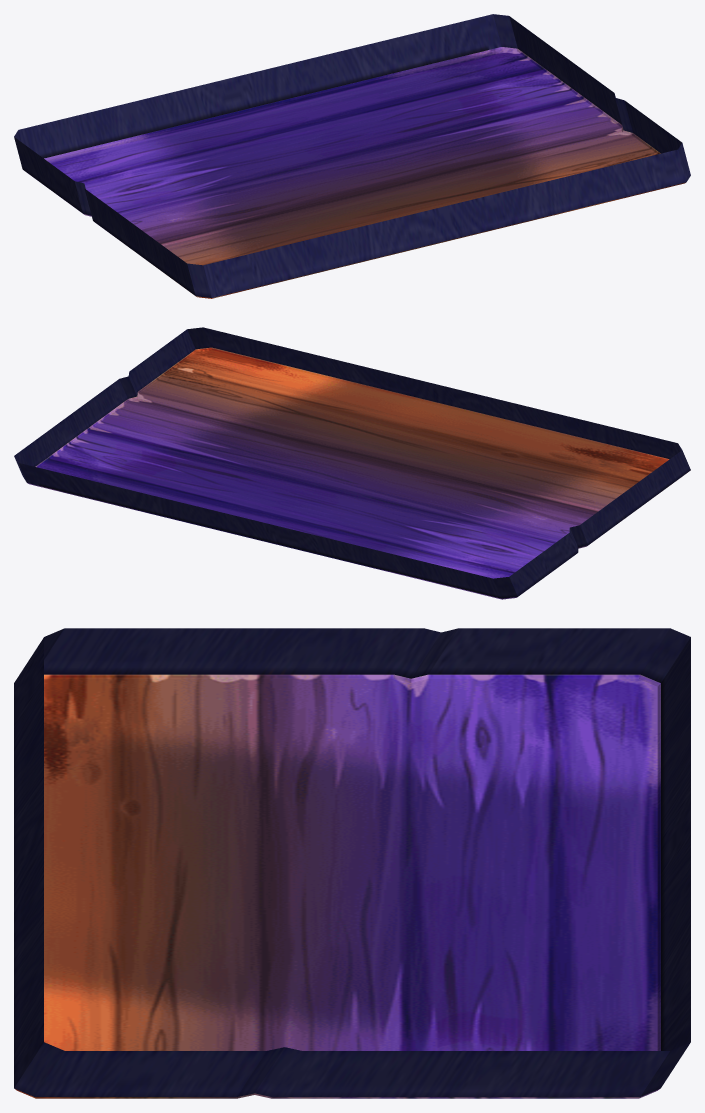
File: Table_F.glb
The picture shows the model from 3 angles, top to bottom: view 1: azimuth 30°, elevation 25°; view 2: azimuth 150°, elevation 25°; view 3: azimuth 270°, elevation 25°; orthographic projection. The views are drawn at different scales.
Parts seen in each view (by area): view 1: Table; view 2: Table; view 3: Table.
Part boxes in pixels (x1,y1,x2,y2): Table: (14, 14, 690, 298); Table: (14, 327, 690, 599); Table: (14, 628, 690, 1098).
Size of the model in its own units: 10.65 by 0.5779 by 7.21.
Materials: 1 (1 with a texture image).
